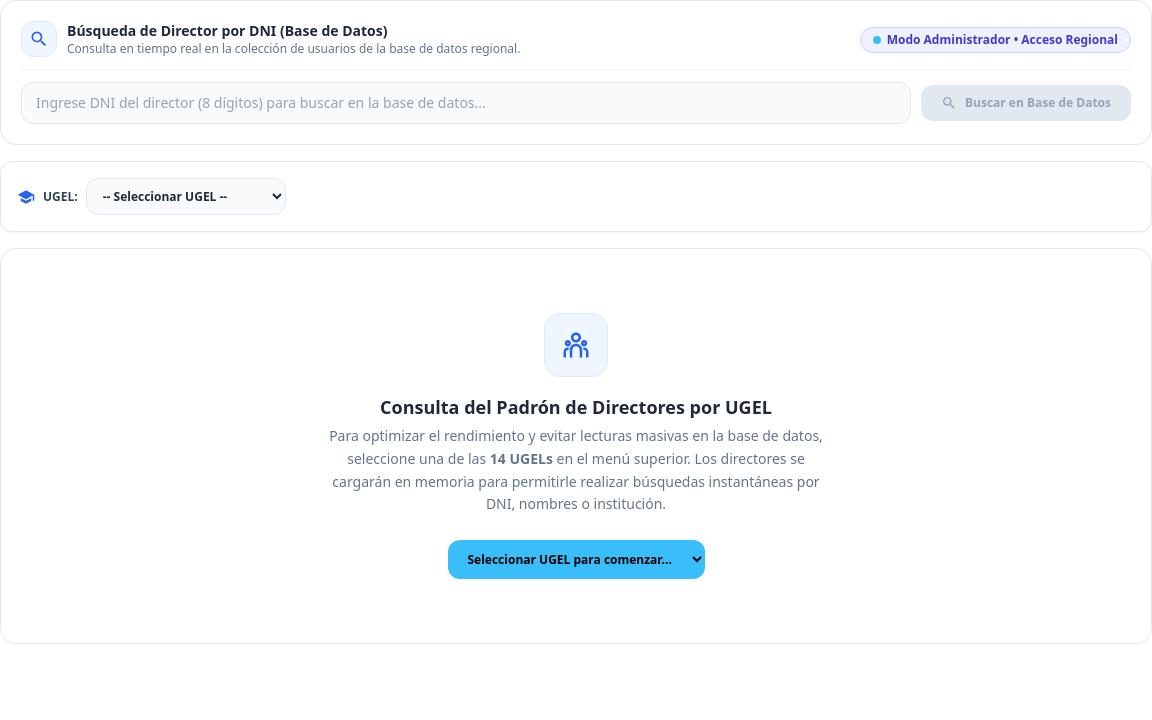
Test case: PadronDirectoresUgelTab › Carga directores al seleccionar una UGEL y muestra estado de monitoreo
Select "UGEL San Román" in the dropdown next to "UGEL:" at (186, 196), box x1=86 y1=178 x2=286 y2=215
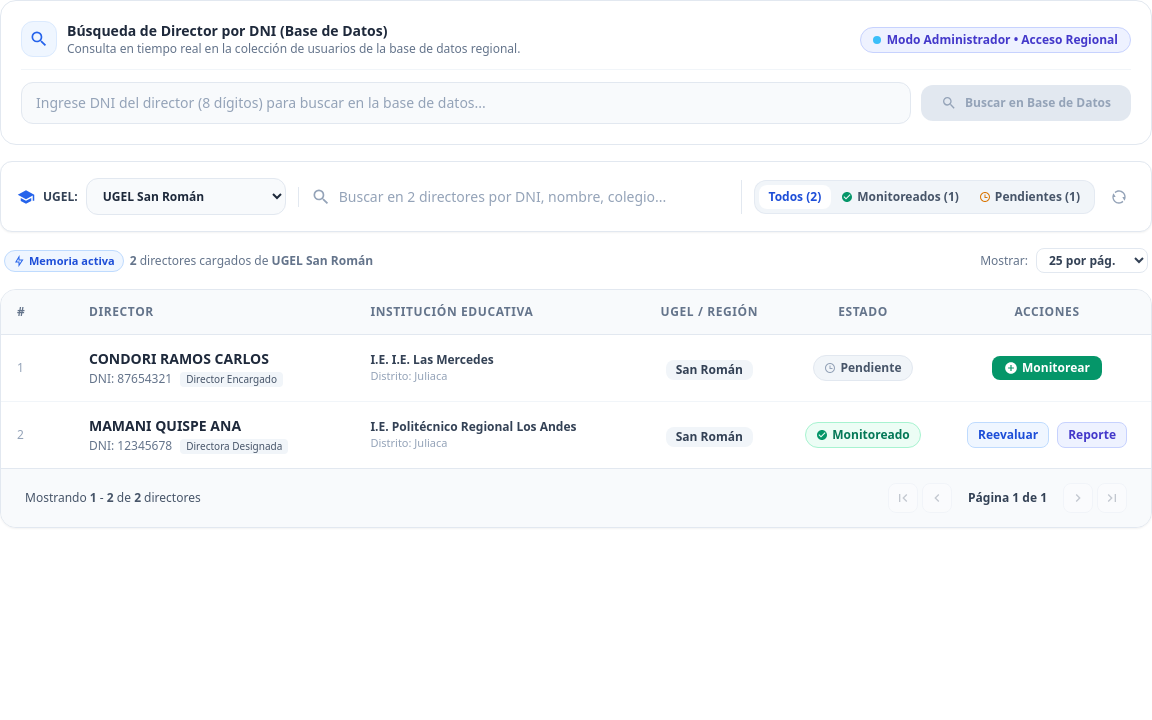
Expected: the text "CONDORI RAMOS CARLOS" is shown, x1=89 y1=349 x2=269 y2=368
Expected: the text "MAMANI QUISPE ANA" is shown, x1=89 y1=416 x2=241 y2=435
Expected: the text "Monitoreado" is shown, x1=832 y1=427 x2=910 y2=443
